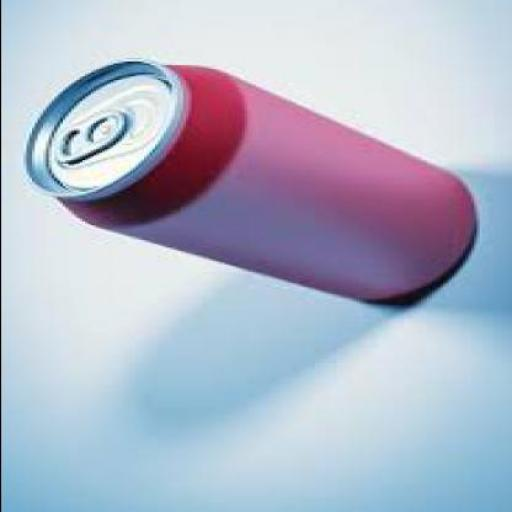metal: (20, 61, 475, 309)
